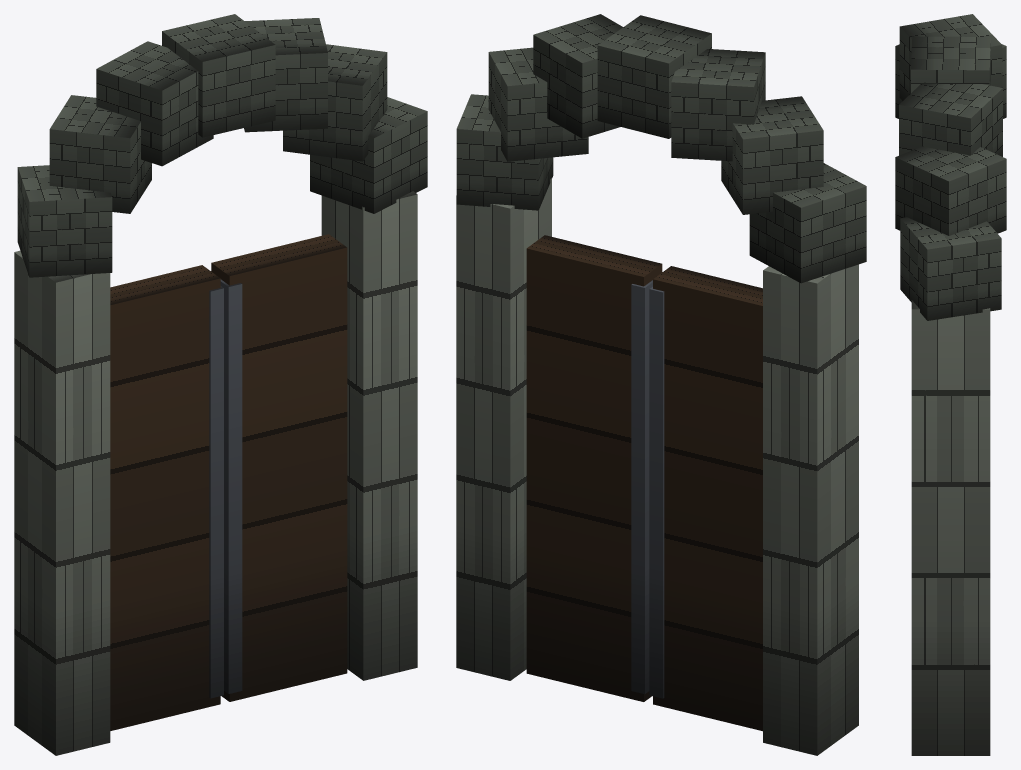
The model's file is door_arch.gltf.
3 renders of one model, left to right at view 1: azimuth 30°, elevation 25°; view 2: azimuth 150°, elevation 25°; view 3: azimuth 270°, elevation 25°, orthographic. The views are drawn at different scales.
Parts seen in each view (by area): view 1: door_arch; view 2: door_arch; view 3: door_arch.
Boxes of the visible parts, x1,y1,x2,y2 form: door_arch: (14, 14, 427, 755); door_arch: (456, 14, 866, 755); door_arch: (895, 14, 1006, 755).
Size of the model in its own units: 0.8788 by 1.39 by 0.2263.
Materials: 1 (1 with a texture image).
